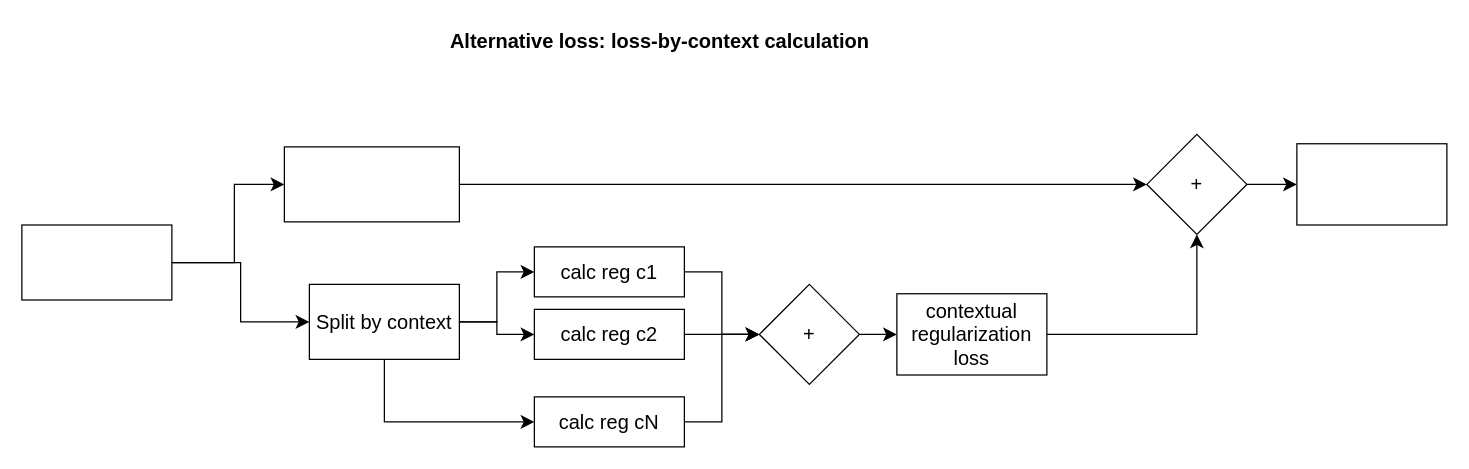
Some shapes in this 1469 by 469 pixel diagram are drawn without their labels. The shapes that lost their labels are listed below. From the top down, each one's centre as x and y in pixels, then its label:
the point at 371,184: calc reconn loss
the point at 1371,183: total loss
the point at 96,262: batch
